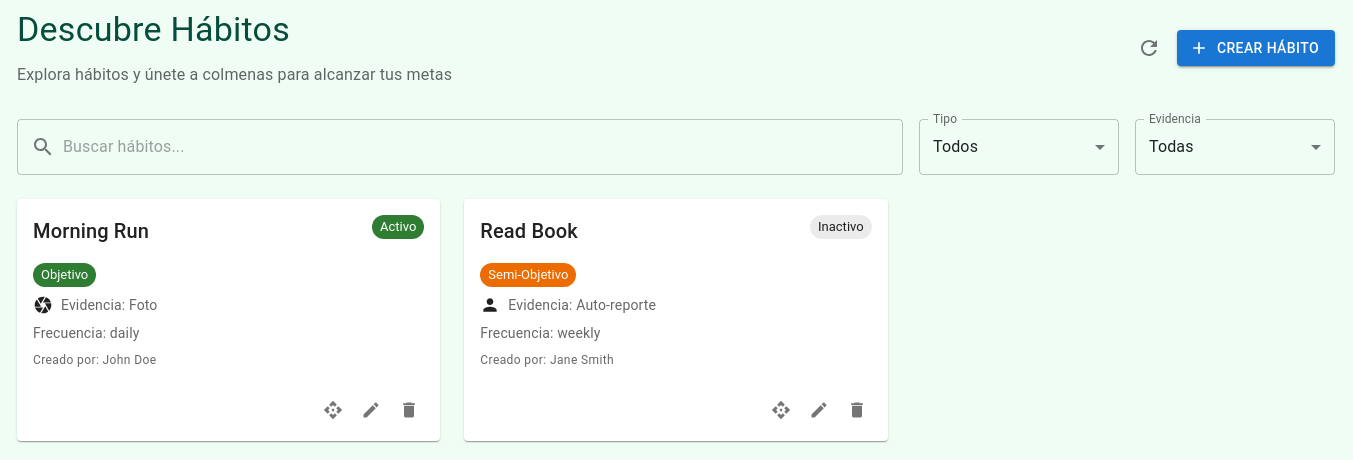
Test case: HabitsPage › Filtering › should filter habits by search term
Check: the heading "Morning Run" is shown, box x1=33 y1=219 x2=149 y2=243
Type "Morning" into the field with placeholder "Buscar hábitos..." at coordinates (483, 147), box x1=63 y1=119 x2=903 y2=175
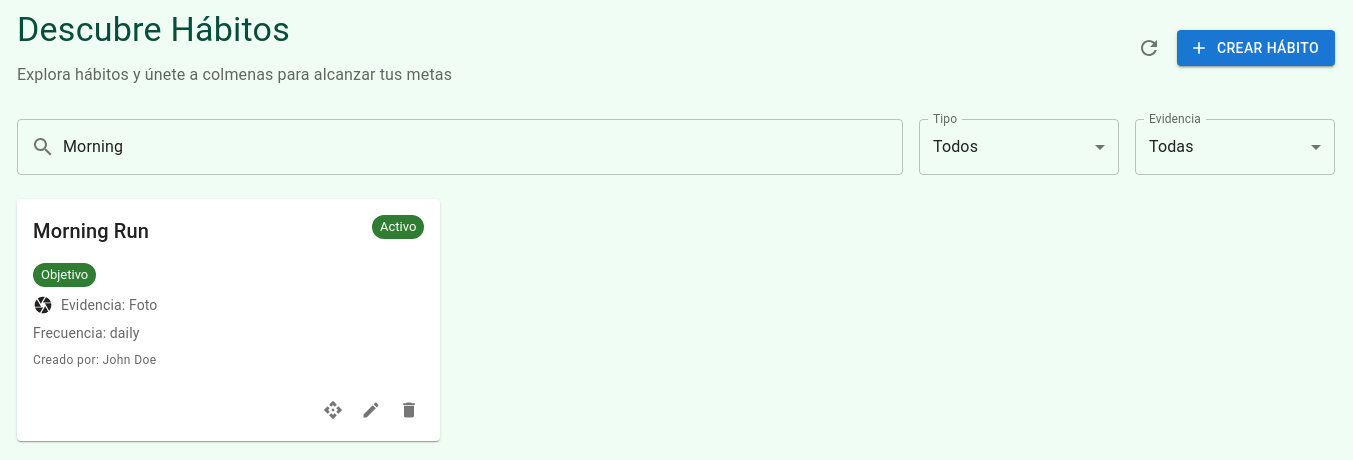
Check: the heading "Morning Run" is shown, box x1=33 y1=219 x2=149 y2=243
Check: the heading "Read Book" is gone
